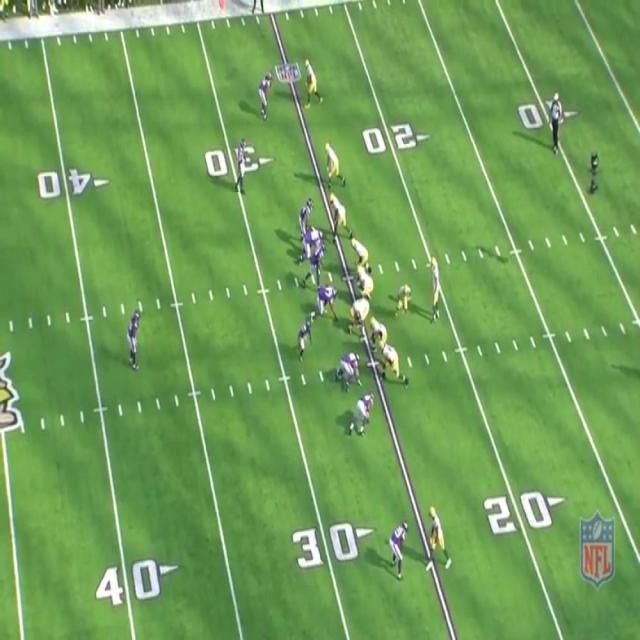center: (348, 300, 370, 334)
db: (388, 523, 409, 575), (127, 313, 143, 365), (259, 73, 272, 119), (237, 140, 248, 193)
lb: (297, 318, 313, 356), (312, 242, 325, 283), (299, 191, 314, 221)
qb: (428, 260, 441, 321)
skill: (428, 508, 453, 568), (326, 144, 343, 186), (305, 60, 321, 104), (331, 196, 348, 230), (399, 284, 413, 310)
